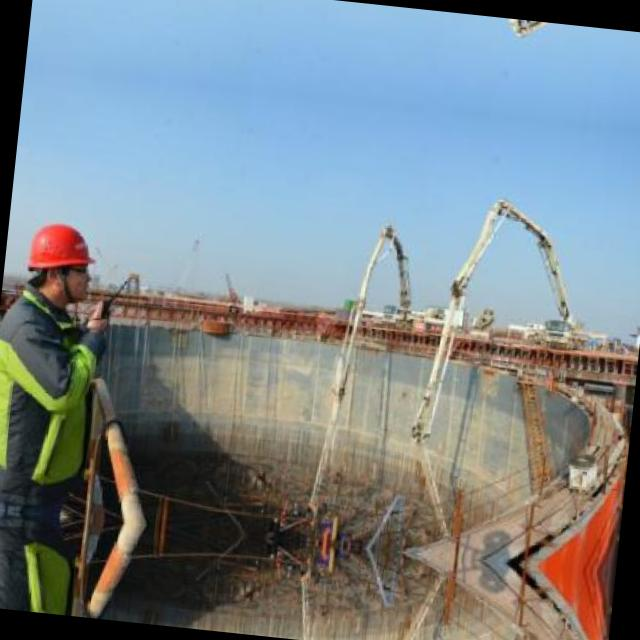helmet: (17, 210, 104, 313)
